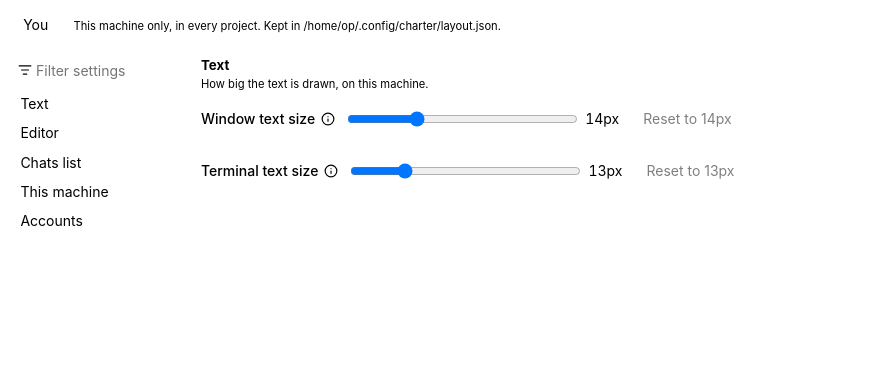
Test case: filtering the Settings tab by name › matches a setting's help text, and shows the group that holds it
Type "the line you are reading" into the search field labelled "Filter settings" at (96, 70), box [12, 56, 180, 84]
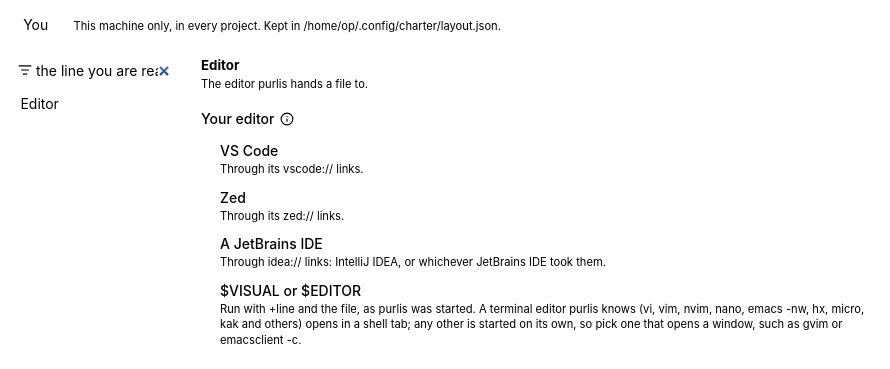
Check: the element named "Your editor" is shown, box [201, 137, 873, 353]
